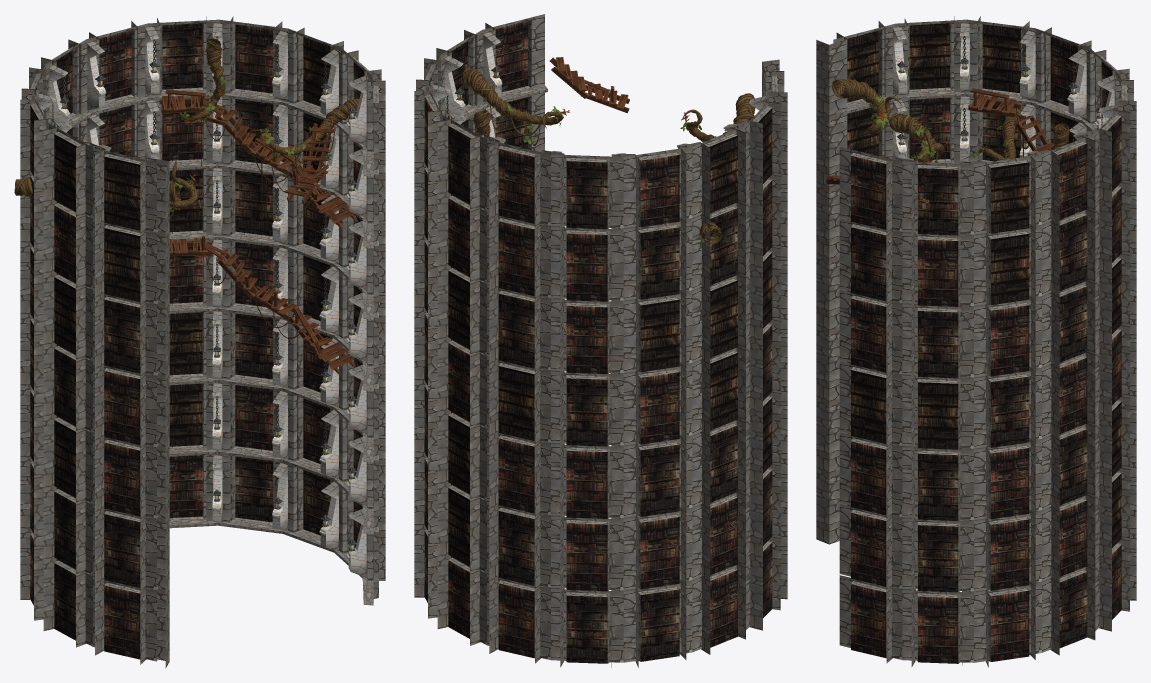
The model's file is Tower.fbx.
3 renders of one model, left to right at view 1: azimuth 30°, elevation 25°; view 2: azimuth 150°, elevation 25°; view 3: azimuth 270°, elevation 25°, orthographic.
Parts seen in each view (by area): view 1: Tower; view 2: Tower; view 3: Tower.
Boxes of the visible parts, bbox=[...] form: Tower: bbox=[14, 16, 385, 668]; Tower: bbox=[414, 14, 787, 667]; Tower: bbox=[816, 16, 1136, 667].
Bounding box in the file's own units: 2947 × 4435 × 2571.
